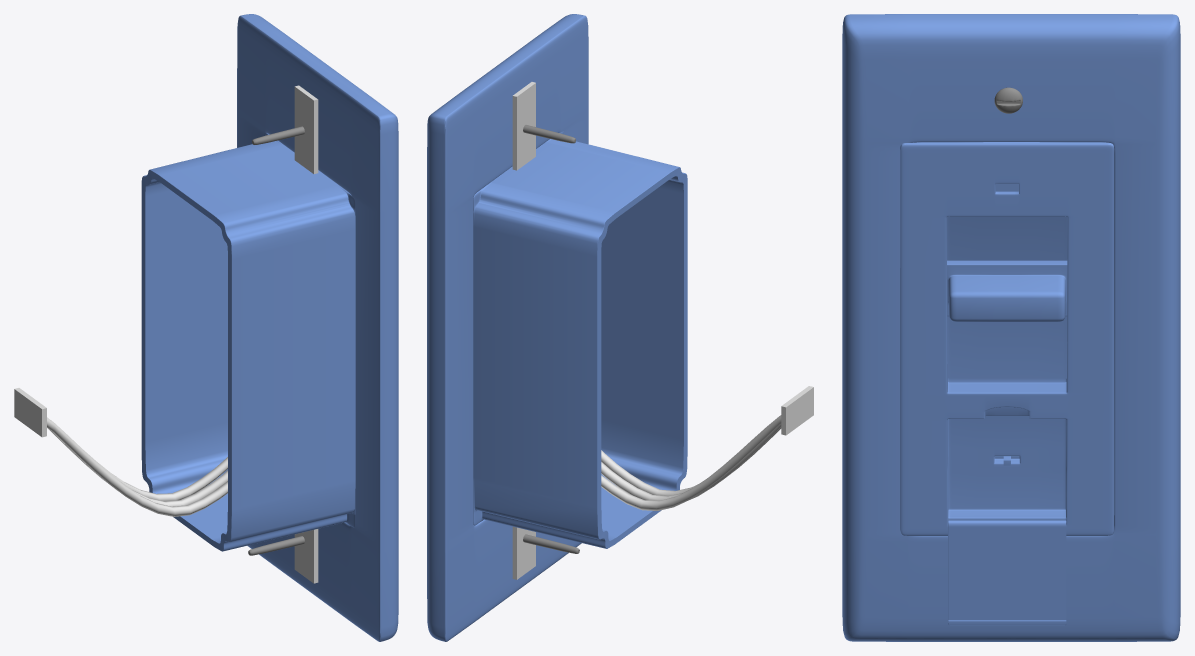
Rendered from interrupteur.glb.
The picture shows the model from 3 angles, left to right: view 1: azimuth 30°, elevation 25°; view 2: azimuth 150°, elevation 25°; view 3: azimuth 270°, elevation 25°; orthographic projection. The views are drawn at different scales.
Visible parts, largest first — view 1: Plane.002, Plane.001, Circle.002, Plane.004, Cube.003; view 2: Plane.002, Plane.001, Circle.002, Plane.004, Cube.003; view 3: Plane.001, Plane.002, Plane.003, Plane, bolt head.
Part boxes in pixels (x1,y1,x2,y2): Plane.002: [141, 133, 355, 551]; Plane.001: [237, 14, 398, 641]; Circle.002: [47, 417, 227, 516]; Plane.004: [294, 85, 318, 583]; Cube.003: [14, 388, 46, 437]; Plane.002: [473, 131, 687, 548]; Plane.001: [427, 14, 588, 641]; Circle.002: [601, 415, 781, 510]; Plane.004: [512, 82, 535, 579]; Cube.003: [781, 386, 813, 435]; Plane.001: [842, 14, 1180, 641]; Plane.002: [900, 142, 1114, 535]; Plane.003: [948, 520, 1066, 625]; Plane: [947, 260, 1067, 321]; bolt head: [994, 87, 1022, 113].
Bounding box in the file's own units: 1.07 × 1.62 × 0.7973.
